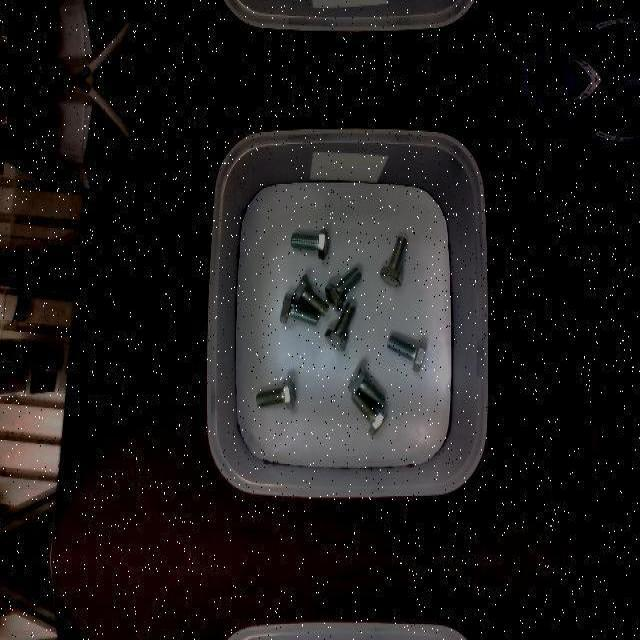screw: (325, 268, 362, 312), (348, 364, 385, 408), (351, 393, 388, 437), (324, 302, 356, 352), (292, 275, 329, 317), (386, 335, 426, 373), (379, 236, 407, 286), (255, 375, 295, 409), (280, 292, 319, 326), (290, 229, 328, 259)
